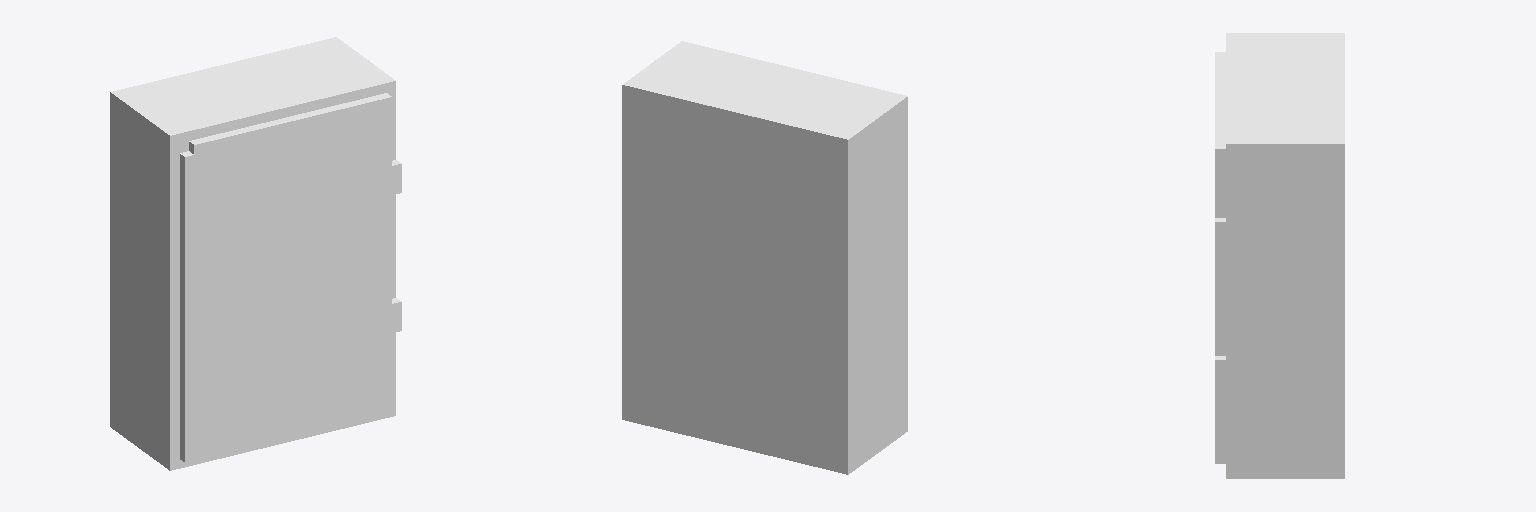
File: ElectricBox.obj
3 views of the same model, side by side, from view 1: azimuth 30°, elevation 25°; view 2: azimuth 150°, elevation 25°; view 3: azimuth 270°, elevation 25° (orthographic).
Size of the model in its own units: 24 by 34 by 12.